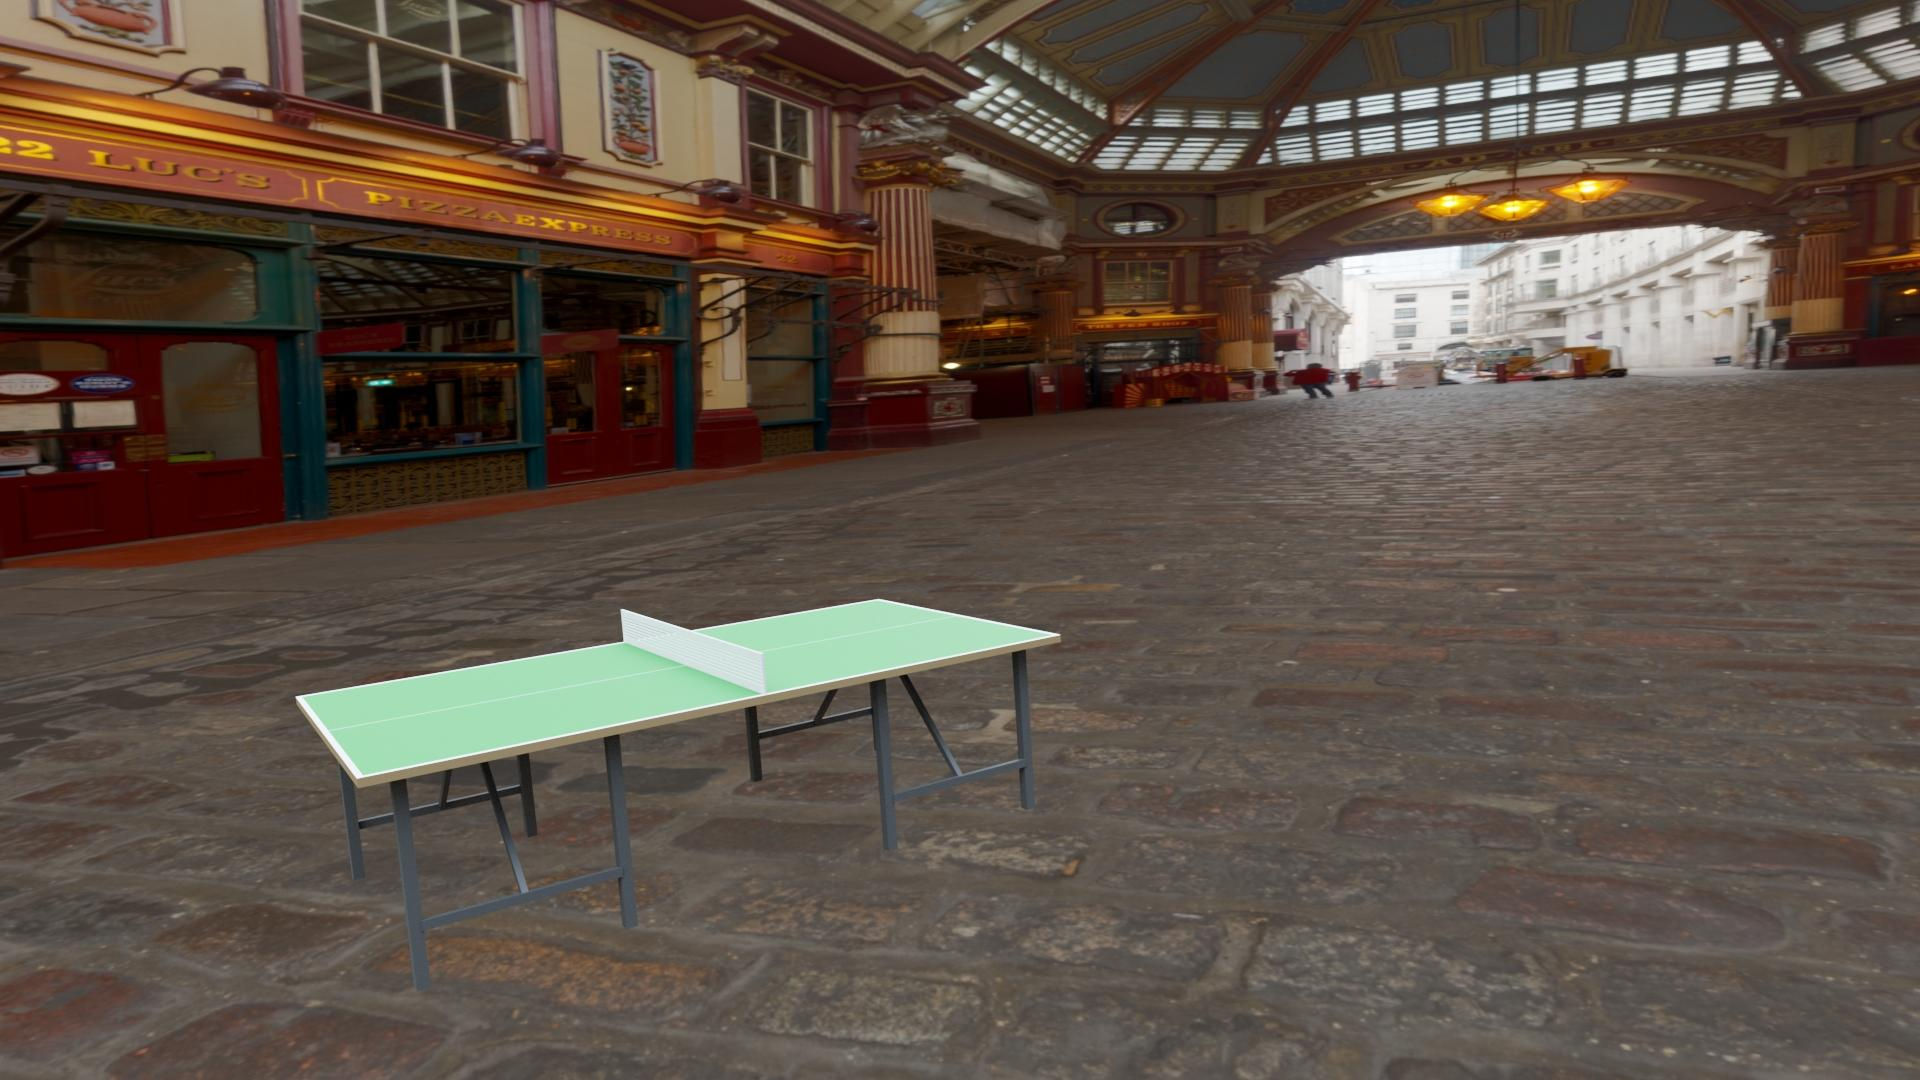table: (302, 600, 1054, 775)
